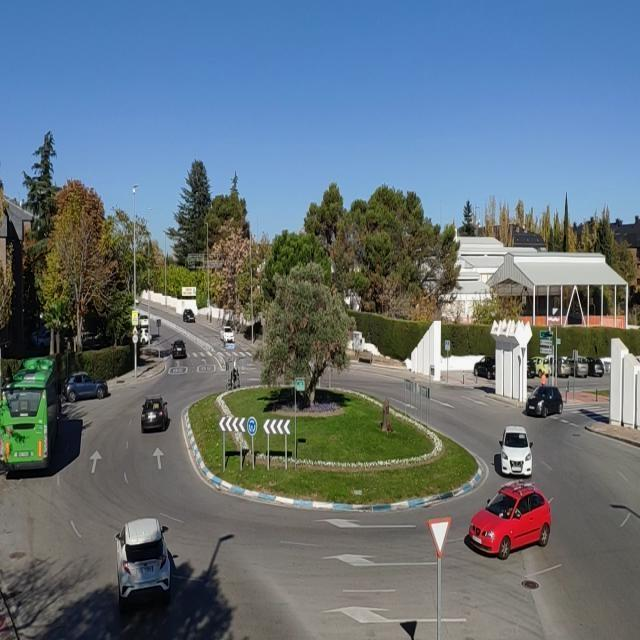Bus: (0, 355, 60, 475)
Car: (467, 480, 552, 560), (114, 517, 174, 608), (498, 424, 534, 478), (62, 370, 109, 404), (526, 384, 564, 419), (140, 394, 169, 432), (562, 355, 589, 379), (546, 355, 572, 378), (474, 354, 496, 380), (528, 356, 552, 378), (583, 356, 605, 377), (34, 329, 54, 348), (170, 339, 188, 360), (220, 325, 235, 344), (137, 327, 151, 346), (526, 356, 536, 379), (182, 308, 196, 324), (526, 359, 536, 378), (139, 314, 150, 328)
